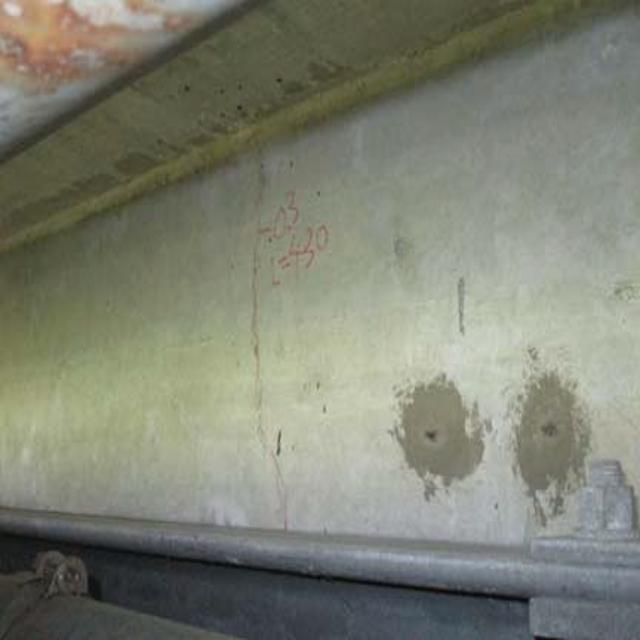spalling: (390, 348, 596, 503)
